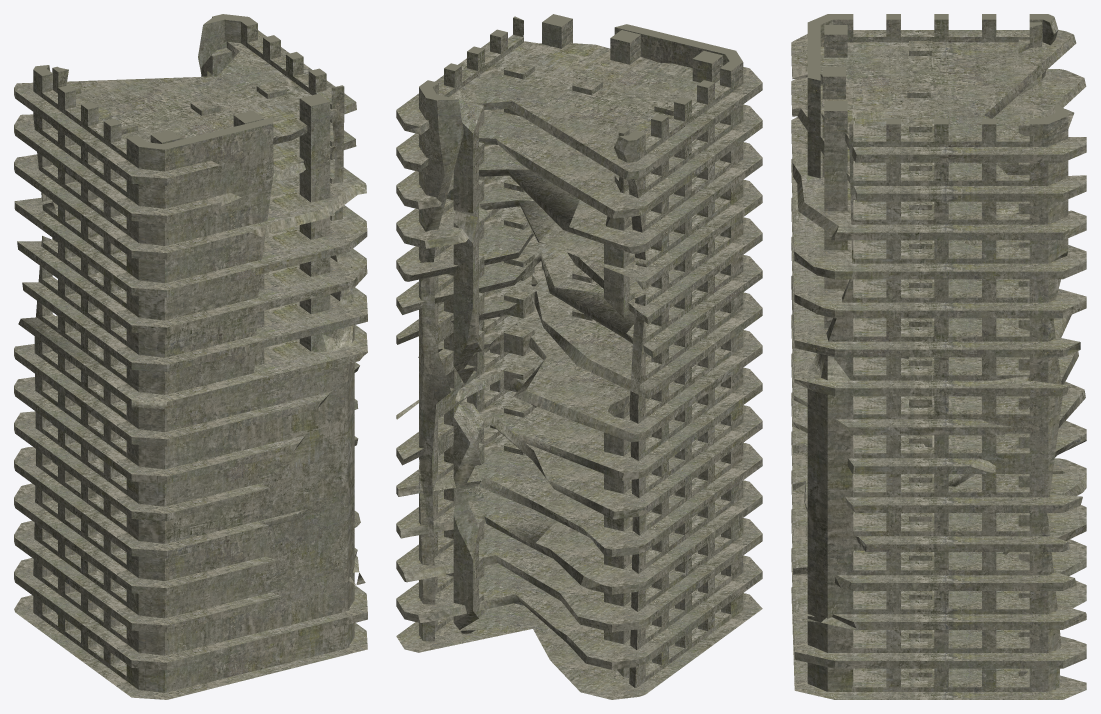
3 views of the same model, side by side, from view 1: azimuth 30°, elevation 25°; view 2: azimuth 150°, elevation 25°; view 3: azimuth 270°, elevation 25° (orthographic). The views are drawn at different scales.
Visible parts, largest first — view 1: Cube.005_2; view 2: Cube.005_2; view 3: Cube.005_2.
Boxes of the visible parts, x1,y1,x2,y2 form: Cube.005_2: (14,14,367,699); Cube.005_2: (396,14,762,699); Cube.005_2: (791,14,1086,699).
Size of the model in its own units: 2.55 by 5.41 by 2.55.
1 material, 1 textured.
